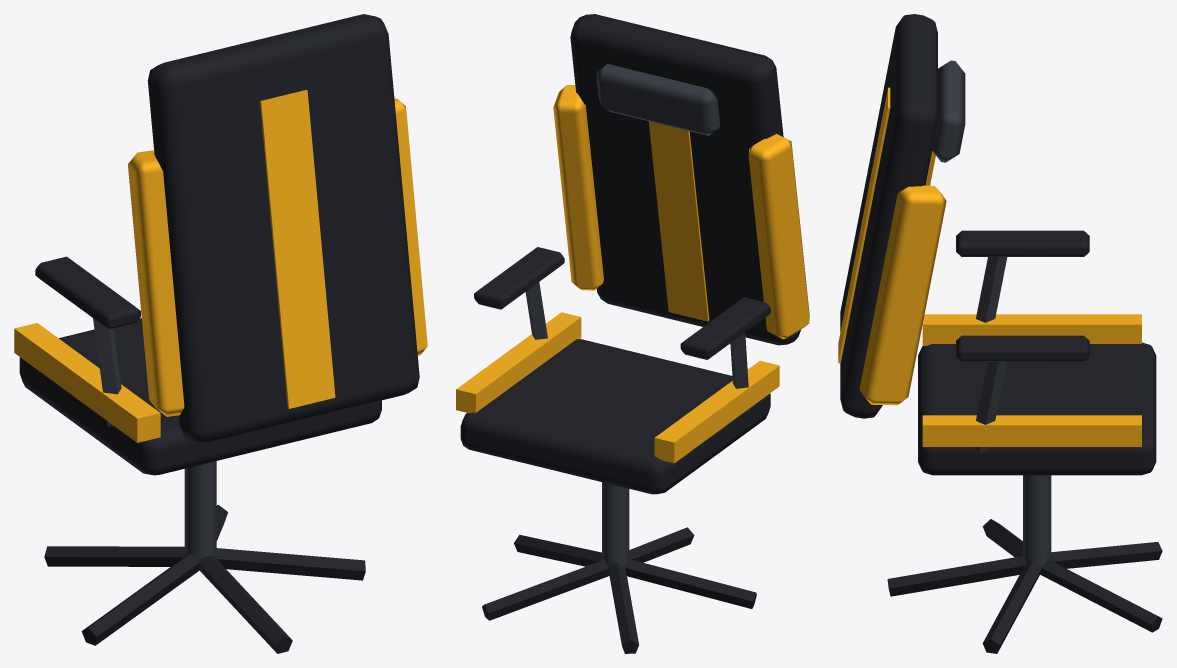
The model's file is station_processing_ausstattung_3_3.glb.
The picture shows the model from 3 angles, left to right: view 1: azimuth 30°, elevation 25°; view 2: azimuth 150°, elevation 25°; view 3: azimuth 270°, elevation 25°; orthographic projection. The views are drawn at different scales.
Parts seen in each view (by area): view 1: station_processing_ausstattung_3_3; view 2: station_processing_ausstattung_3_3; view 3: station_processing_ausstattung_3_3.
Part boxes in pixels (bbox=[...]): station_processing_ausstattung_3_3: bbox=[14, 14, 427, 653]; station_processing_ausstattung_3_3: bbox=[456, 14, 809, 653]; station_processing_ausstattung_3_3: bbox=[838, 14, 1162, 653].
Bounding box in the file's own units: 0.6036 × 1.24 × 0.6794.
